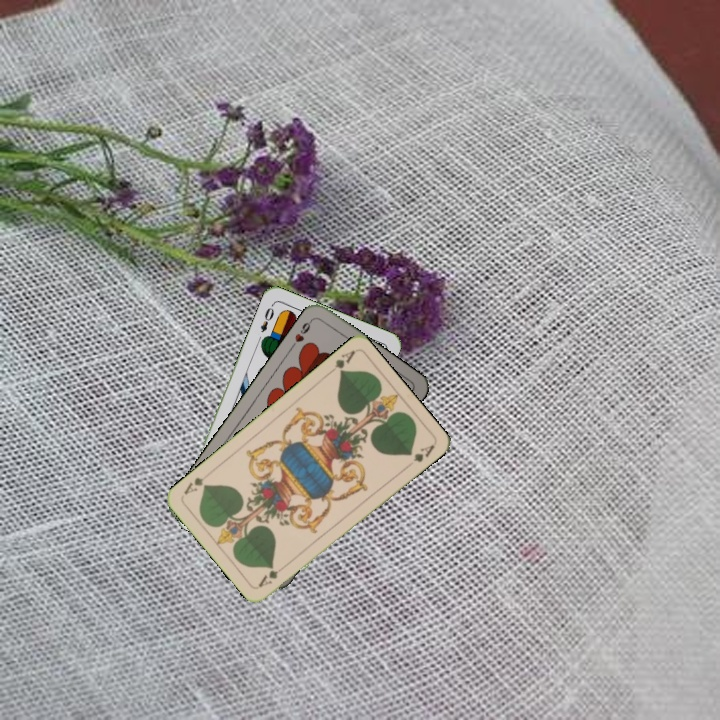EO: (256, 300, 277, 335)
GA: (254, 561, 290, 590), (324, 346, 357, 377)
H9: (287, 315, 315, 351)
